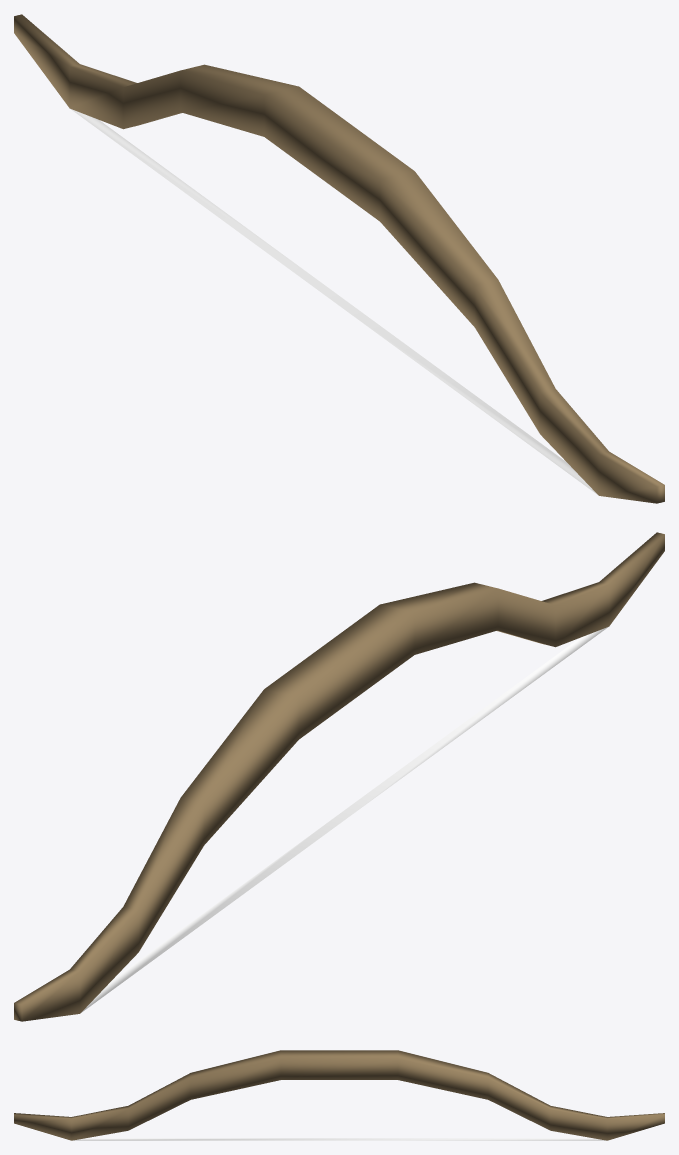
Rendered from bow.fbx.
The picture shows the model from 3 angles, top to bottom: view 1: azimuth 30°, elevation 25°; view 2: azimuth 150°, elevation 25°; view 3: azimuth 270°, elevation 25°; orthographic projection. The views are drawn at different scales.
Parts seen in each view (by area): view 1: Cube; view 2: Cube; view 3: Cube.
Part boxes in pixels (box(x1,y1,x2,y2)): Cube: box(14, 14, 664, 503); Cube: box(14, 532, 664, 1021); Cube: box(14, 1050, 664, 1140).
Size of the model in its own units: 17.54 by 80 by 556.
